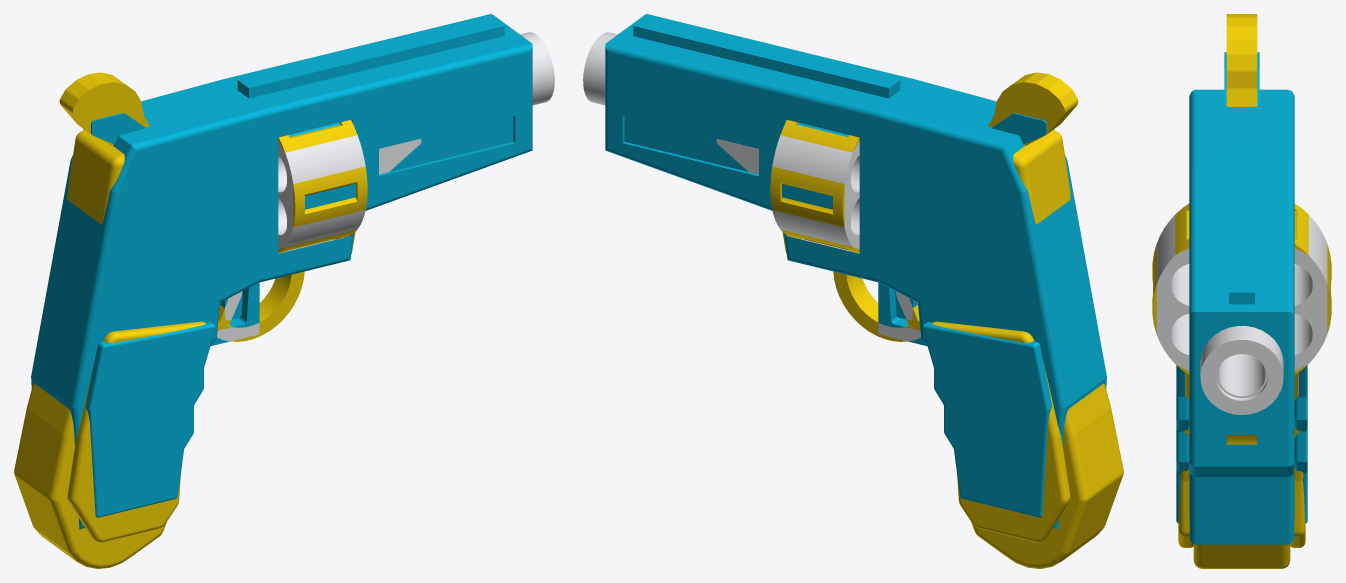
The picture shows the model from 3 angles, left to right: view 1: azimuth 30°, elevation 25°; view 2: azimuth 150°, elevation 25°; view 3: azimuth 270°, elevation 25°; orthographic projection. The views are drawn at different scales.
Parts seen in each view (by area): view 1: =>[0:1:1:41], =>[0:1:1:54], =>[0:1:1:66], =>[0:1:1:29], =>[0:1:1:90], =>[0:1:1:65], =>[0:1:1:94], =>[0:1:1:80], =>[0:1:1:99], =>[0:1:1:39], =>[0:1:1:79], =>[0:1:1:60] (+4 smaller); view 2: =>[0:1:1:41], =>[0:1:1:53], =>[0:1:1:66], =>[0:1:1:29], =>[0:1:1:86], =>[0:1:1:65], =>[0:1:1:94], =>[0:1:1:81], =>[0:1:1:99], =>[0:1:1:39], =>[0:1:1:78], =>[0:1:1:59] (+4 smaller); view 3: =>[0:1:1:41], =>[0:1:1:29], =>[0:1:1:39], =>[0:1:1:94], =>[0:1:1:66], =>[0:1:1:31], =>[0:1:1:53], =>[0:1:1:54], =>[0:1:1:86], =>[0:1:1:90], =>[0:1:1:78], =>[0:1:1:79] (+3 smaller).
Boxes of the visible parts, bbox=[...] form: =>[0:1:1:41]: bbox=[31, 14, 532, 445]; =>[0:1:1:54]: bbox=[85, 322, 215, 517]; =>[0:1:1:66]: bbox=[14, 383, 166, 568]; =>[0:1:1:29]: bbox=[278, 135, 365, 248]; =>[0:1:1:90]: bbox=[67, 363, 180, 542]; =>[0:1:1:65]: bbox=[67, 129, 124, 224]; =>[0:1:1:94]: bbox=[59, 72, 149, 145]; =>[0:1:1:80]: bbox=[293, 166, 367, 227]; =>[0:1:1:99]: bbox=[230, 271, 304, 341]; =>[0:1:1:39]: bbox=[520, 32, 554, 105]; =>[0:1:1:79]: bbox=[278, 120, 357, 152]; =>[0:1:1:60]: bbox=[91, 113, 145, 144]; =>[0:1:1:41]: bbox=[605, 14, 1106, 445]; =>[0:1:1:53]: bbox=[922, 322, 1052, 517]; =>[0:1:1:66]: bbox=[971, 383, 1123, 568]; =>[0:1:1:29]: bbox=[772, 135, 859, 248]; =>[0:1:1:86]: bbox=[957, 363, 1070, 542]; =>[0:1:1:65]: bbox=[1013, 129, 1070, 224]; =>[0:1:1:94]: bbox=[988, 72, 1078, 145]; =>[0:1:1:81]: bbox=[770, 166, 844, 227]; =>[0:1:1:99]: bbox=[833, 271, 907, 341]; =>[0:1:1:39]: bbox=[583, 32, 617, 105]; =>[0:1:1:78]: bbox=[780, 120, 859, 152]; =>[0:1:1:59]: bbox=[992, 113, 1046, 144]; =>[0:1:1:41]: bbox=[1189, 89, 1294, 544]; =>[0:1:1:29]: bbox=[1156, 215, 1327, 370]; =>[0:1:1:39]: bbox=[1200, 326, 1283, 414]; =>[0:1:1:94]: bbox=[1226, 14, 1257, 106]; =>[0:1:1:66]: bbox=[1193, 544, 1290, 568]; =>[0:1:1:31]: bbox=[1216, 354, 1267, 397]; =>[0:1:1:53]: bbox=[1294, 365, 1307, 523]; =>[0:1:1:54]: bbox=[1176, 365, 1189, 523]; =>[0:1:1:86]: bbox=[1290, 466, 1305, 547]; =>[0:1:1:90]: bbox=[1178, 467, 1193, 547]; =>[0:1:1:78]: bbox=[1294, 203, 1308, 254]; =>[0:1:1:79]: bbox=[1175, 203, 1189, 254].
Bounding box in the file's own units: 154 × 138 × 40.9.
